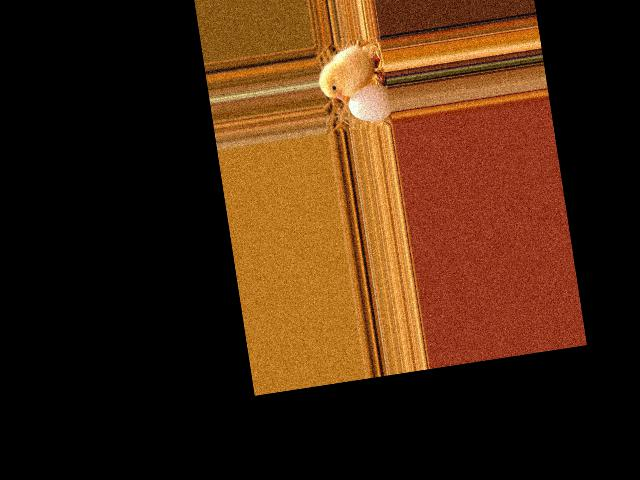egg: (346, 81, 393, 124)
